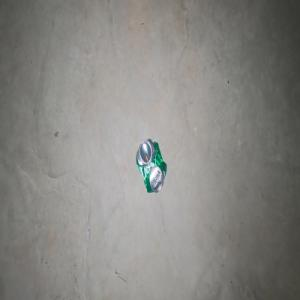SodaCan: (135, 137, 166, 193)
